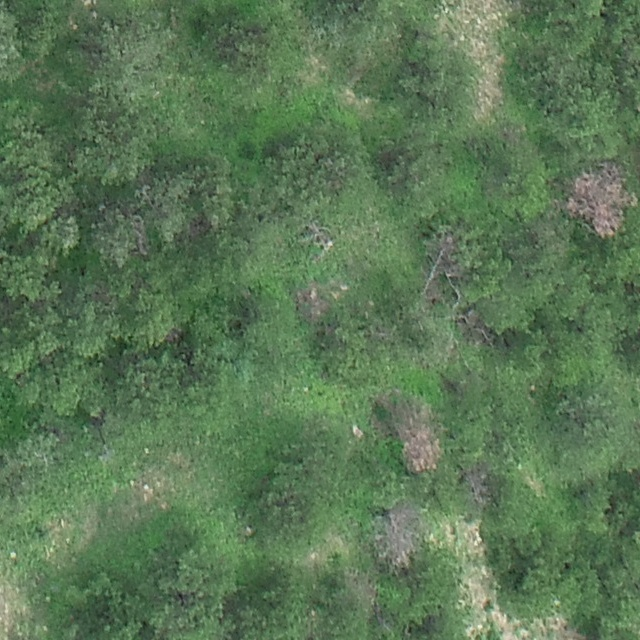unhealthy: (568, 163, 632, 237), (387, 393, 444, 472), (377, 506, 419, 570), (421, 233, 459, 298), (461, 465, 491, 507), (302, 221, 333, 245)
